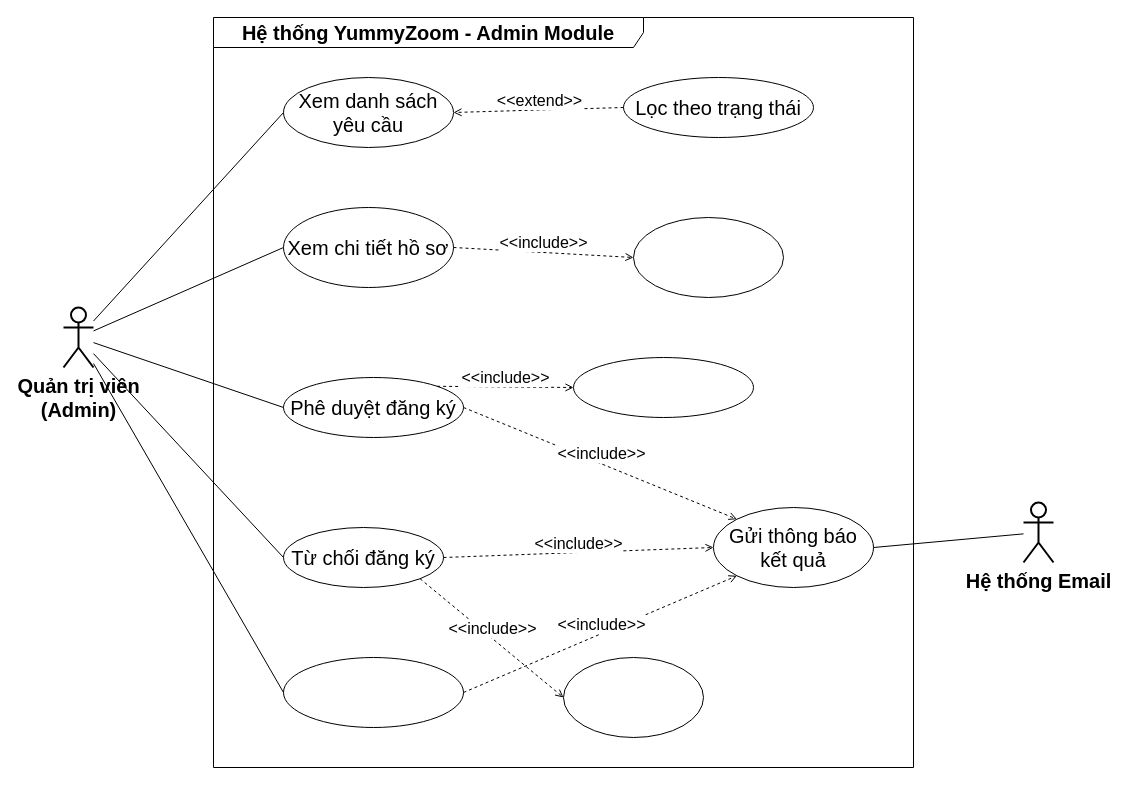
Some shapes in this 1128 by 785 pixel diagram are drawn without their labels. Here are the shapes that lost their labels. From the top down, the box of each, then its label:
(632, 216, 784, 298): Kiểm tra menu dự kiến
(572, 356, 754, 418): Kích hoạt tài khoản
(282, 656, 464, 728): Yêu cầu bổ sung thông tin
(562, 656, 704, 738): Nhập lý do từ chối
